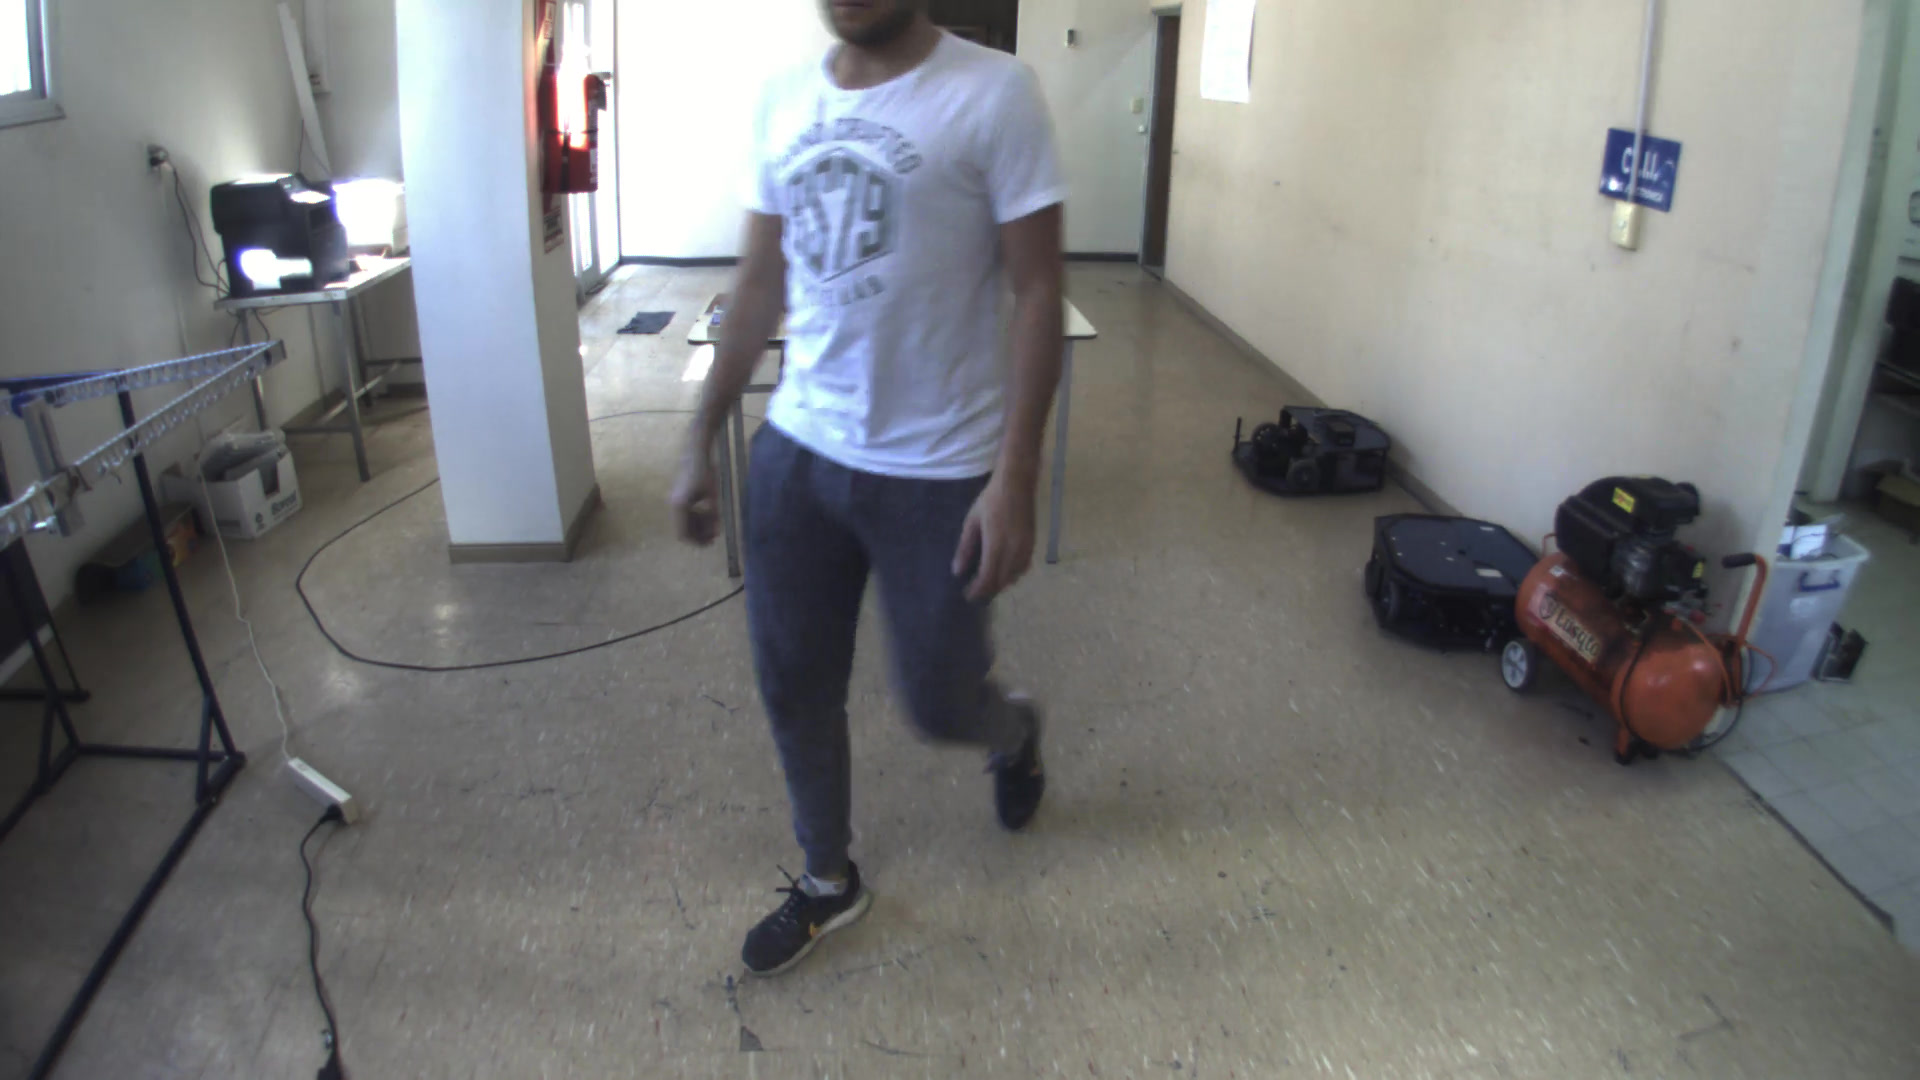hand: (949, 472, 1042, 603), (665, 443, 727, 555)
